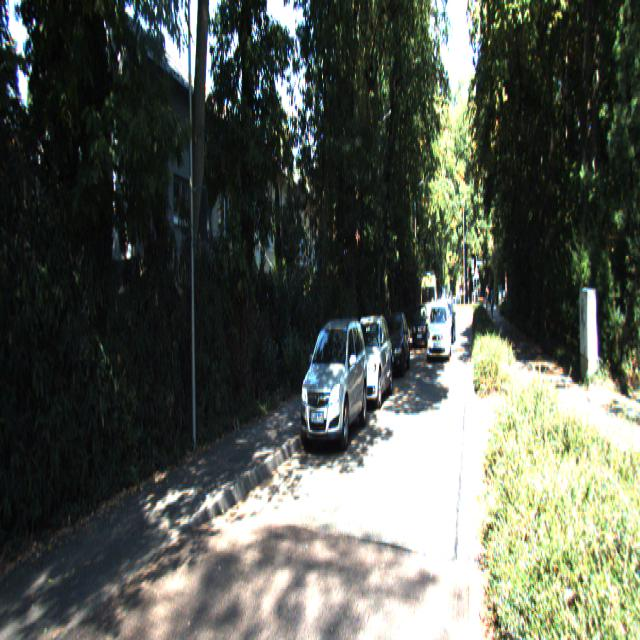Car: (300, 315, 368, 458), (344, 312, 394, 410), (382, 310, 412, 376), (427, 300, 451, 362), (420, 268, 438, 338), (412, 303, 430, 349)
